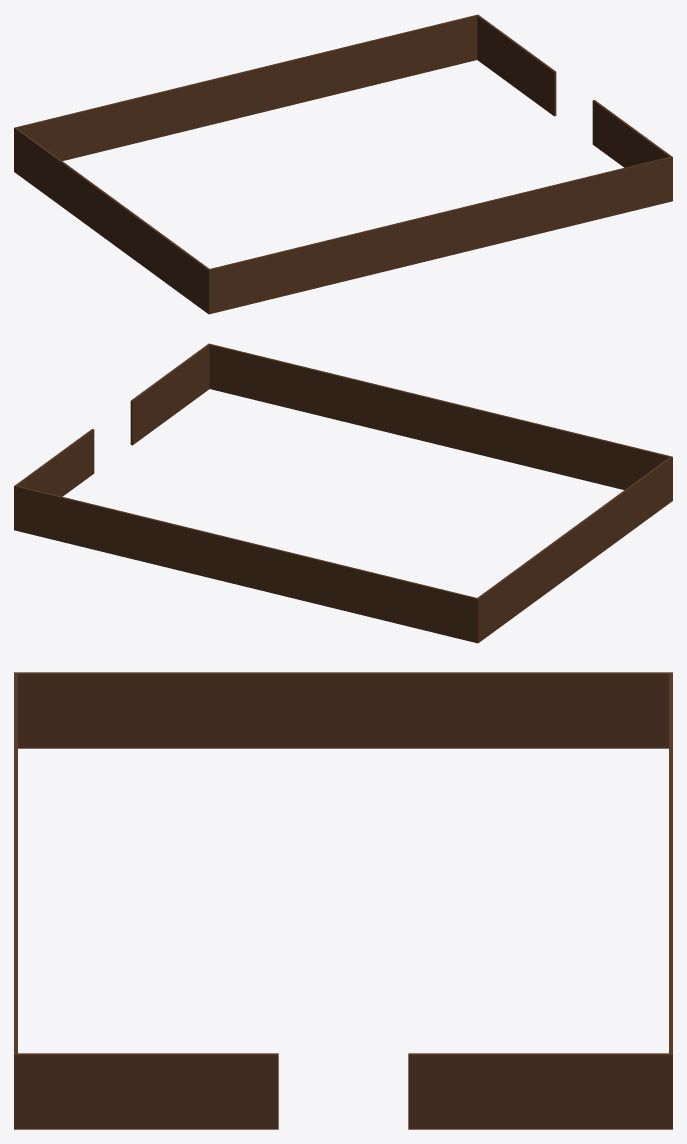
The model's file is House_Fence_Model.fbx.
The picture shows the model from 3 angles, top to bottom: view 1: azimuth 30°, elevation 25°; view 2: azimuth 150°, elevation 25°; view 3: azimuth 270°, elevation 25°; orthographic projection. The views are drawn at different scales.
Parts seen in each view (by area): view 1: House_Fence_L, House_Fence_R, House_Fence_B, House_Fence_F; view 2: House_Fence_R, House_Fence_L, House_Fence_B, House_Fence_F; view 3: House_Fence_B, House_Fence_F, House_Fence_L, House_Fence_R.
Boxes of the visible parts, x1,y1,x2,y2 form: House_Fence_L: (208, 157, 672, 314); House_Fence_R: (15, 14, 477, 160); House_Fence_B: (14, 127, 209, 314); House_Fence_F: (477, 14, 672, 167); House_Fence_R: (14, 485, 478, 643); House_Fence_L: (208, 344, 670, 489); House_Fence_B: (477, 456, 672, 643); House_Fence_F: (14, 343, 209, 496); House_Fence_B: (14, 672, 672, 748); House_Fence_F: (14, 1053, 672, 1129); House_Fence_L: (14, 672, 17, 1054); House_Fence_R: (669, 672, 672, 1054).
Size of the model in its own units: 1100 by 100 by 800.
